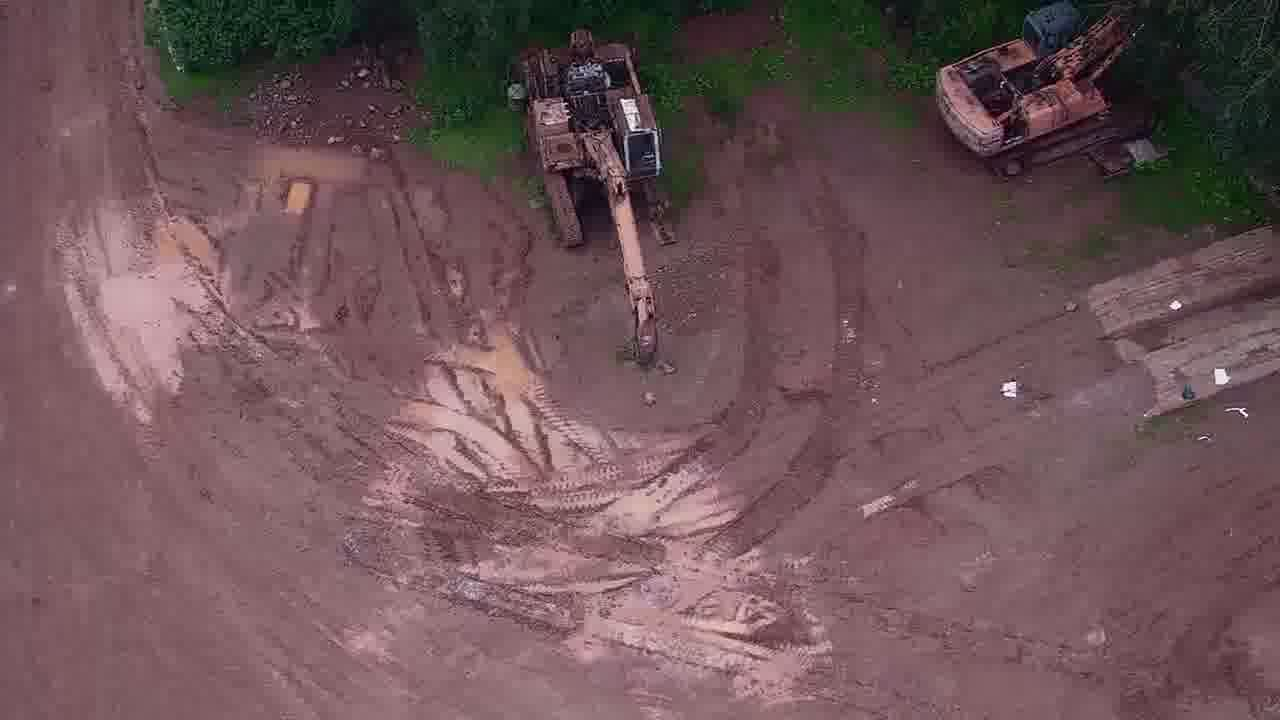HMV: (504, 16, 673, 363), (932, 1, 1170, 175)
